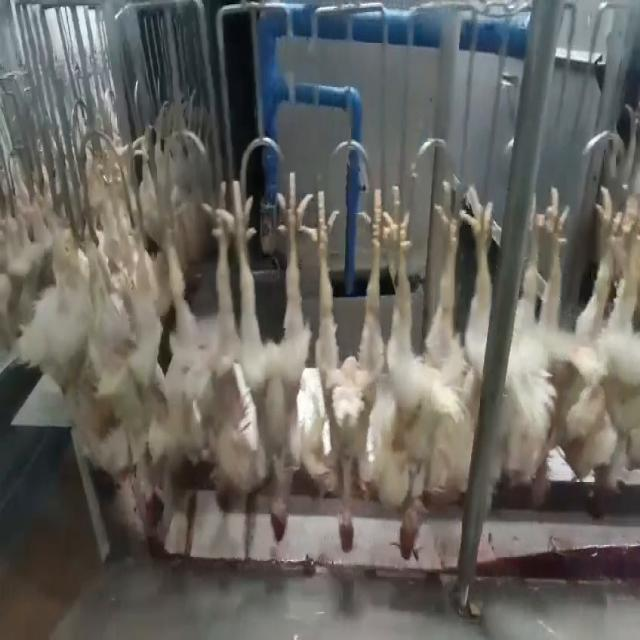chicken: (381, 197, 475, 567), (229, 174, 314, 566), (308, 185, 391, 556), (103, 176, 173, 545), (498, 190, 572, 514), (576, 152, 639, 520), (168, 167, 230, 525)
